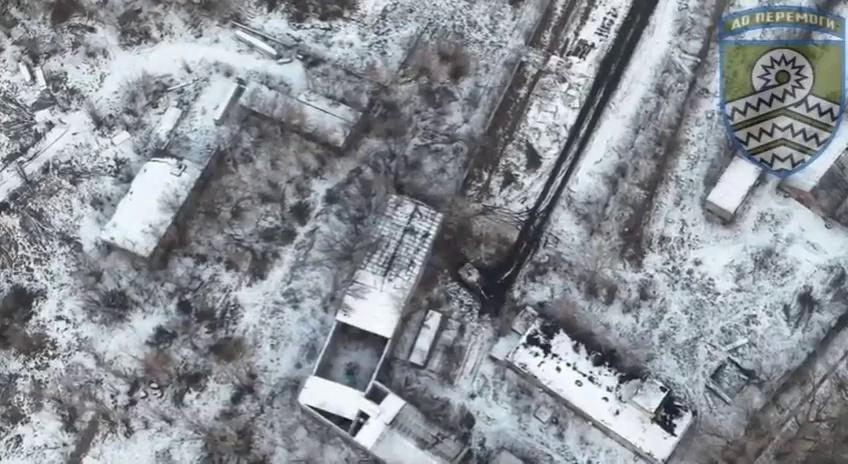vehicle: (458, 262, 492, 300)
